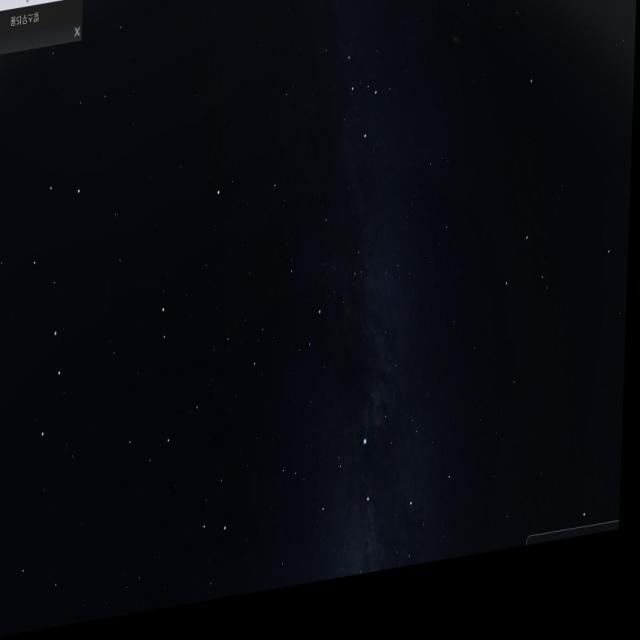cassiopeia: (313, 49, 401, 165)
cygnus: (317, 421, 427, 594)
ursa_major: (18, 174, 95, 449)
